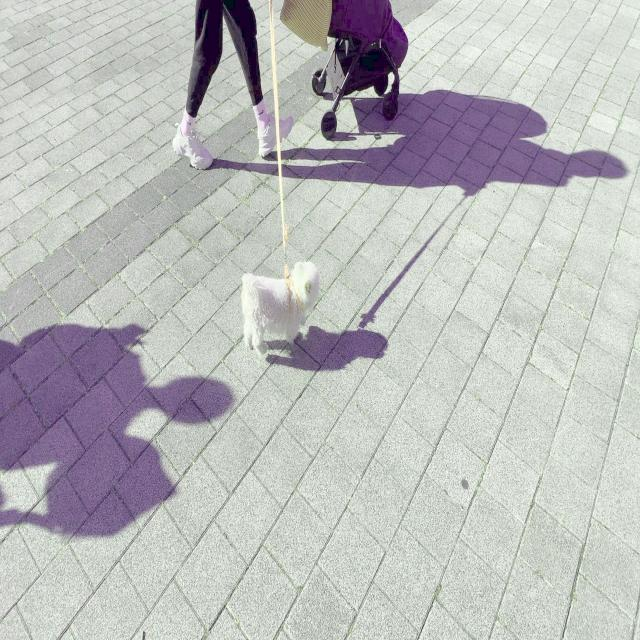Dog: (240, 260, 320, 355)
